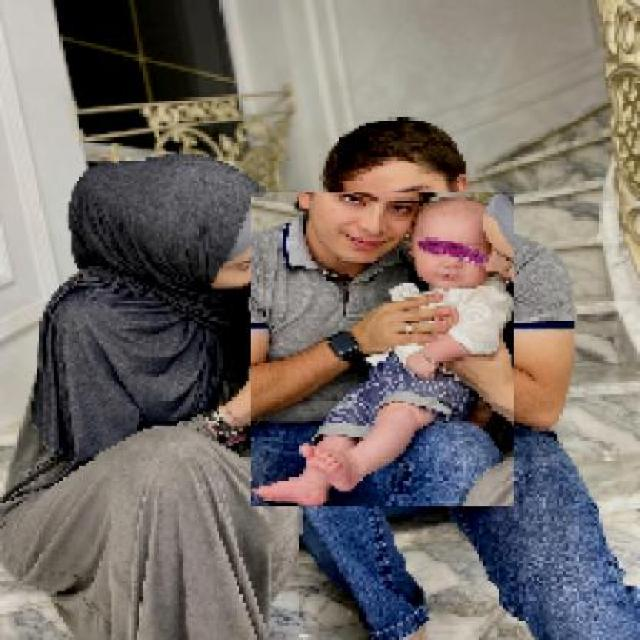child: (249, 192, 514, 508)
